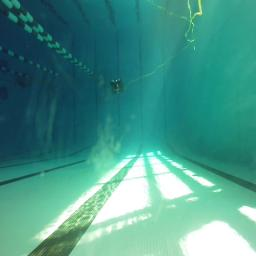front: (110, 78, 124, 94)
